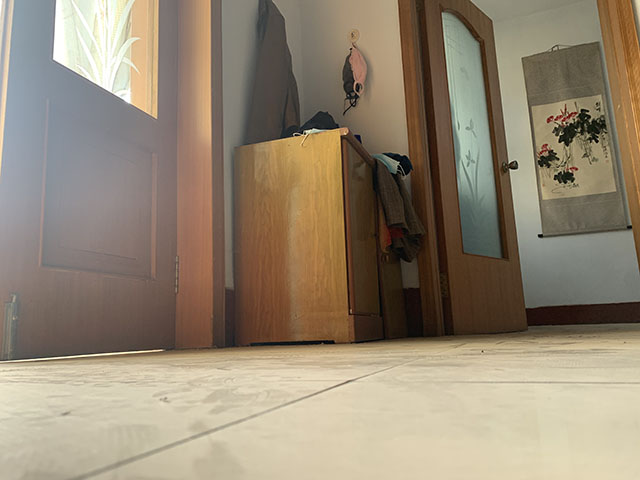cabinet: (230, 125, 410, 348)
